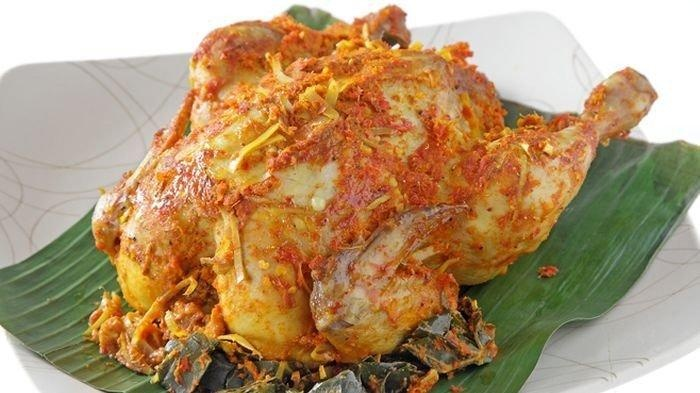ayam_betutu: (92, 6, 659, 372)
